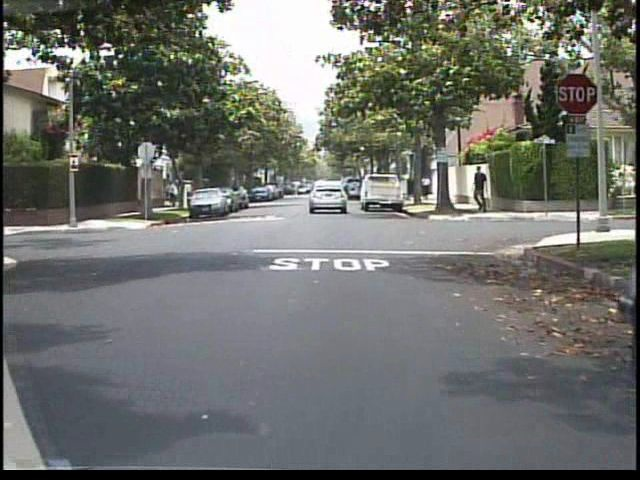person: (468, 163, 495, 219), (418, 171, 435, 204), (164, 179, 182, 208)
